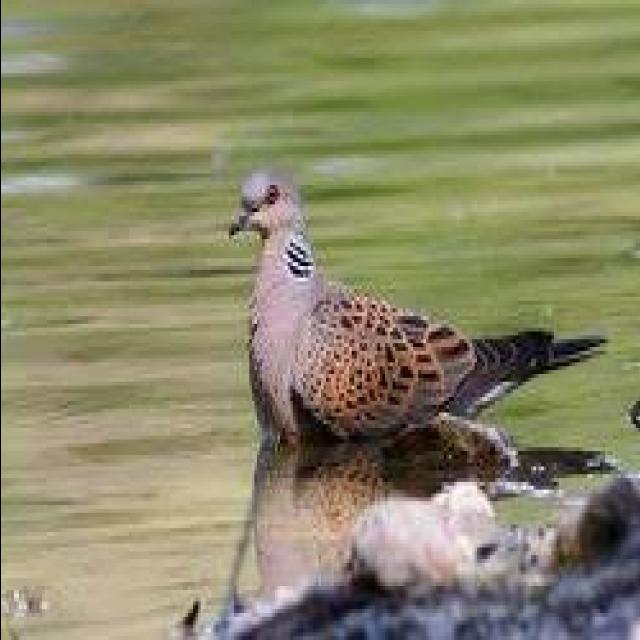pigeon: (188, 148, 600, 456)
